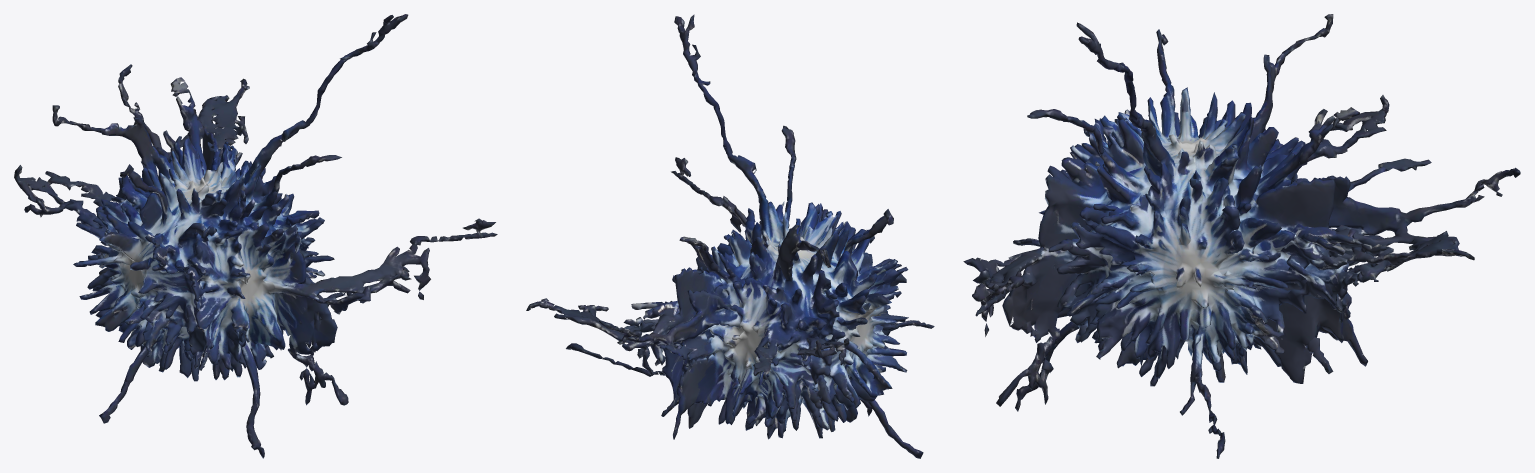
3 renders of one model, left to right at view 1: azimuth 30°, elevation 25°; view 2: azimuth 150°, elevation 25°; view 3: azimuth 270°, elevation 25°, orthographic. The views are drawn at different scales.
Parts seen in each view (by area): view 1: tripo_node_63cb4830-85ef-4353-a013-17e8eaadefe5; view 2: tripo_node_63cb4830-85ef-4353-a013-17e8eaadefe5; view 3: tripo_node_63cb4830-85ef-4353-a013-17e8eaadefe5.
Part boxes in pixels (x1,y1,x2,y2): tripo_node_63cb4830-85ef-4353-a013-17e8eaadefe5: (14, 14, 497, 458); tripo_node_63cb4830-85ef-4353-a013-17e8eaadefe5: (526, 14, 934, 458); tripo_node_63cb4830-85ef-4353-a013-17e8eaadefe5: (963, 14, 1520, 458).
Size of the model in its own units: 0.8556 by 0.9468 by 0.9915.
Materials: 1 (1 with a texture image).
